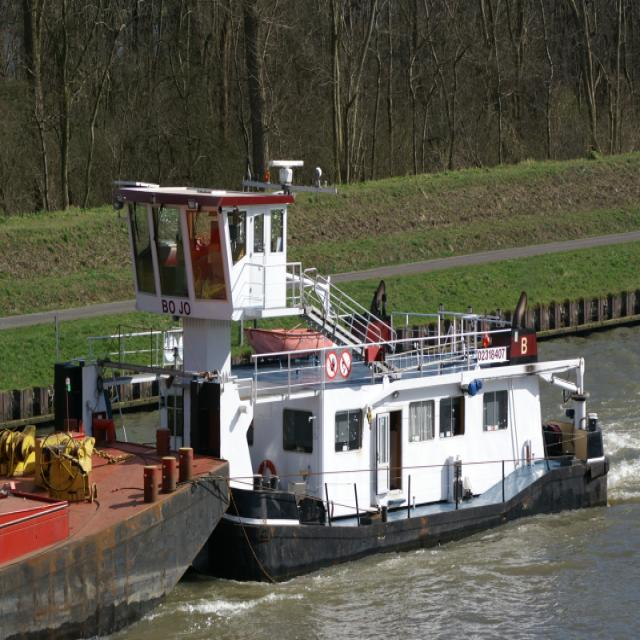tugboat: (51, 153, 616, 598)
